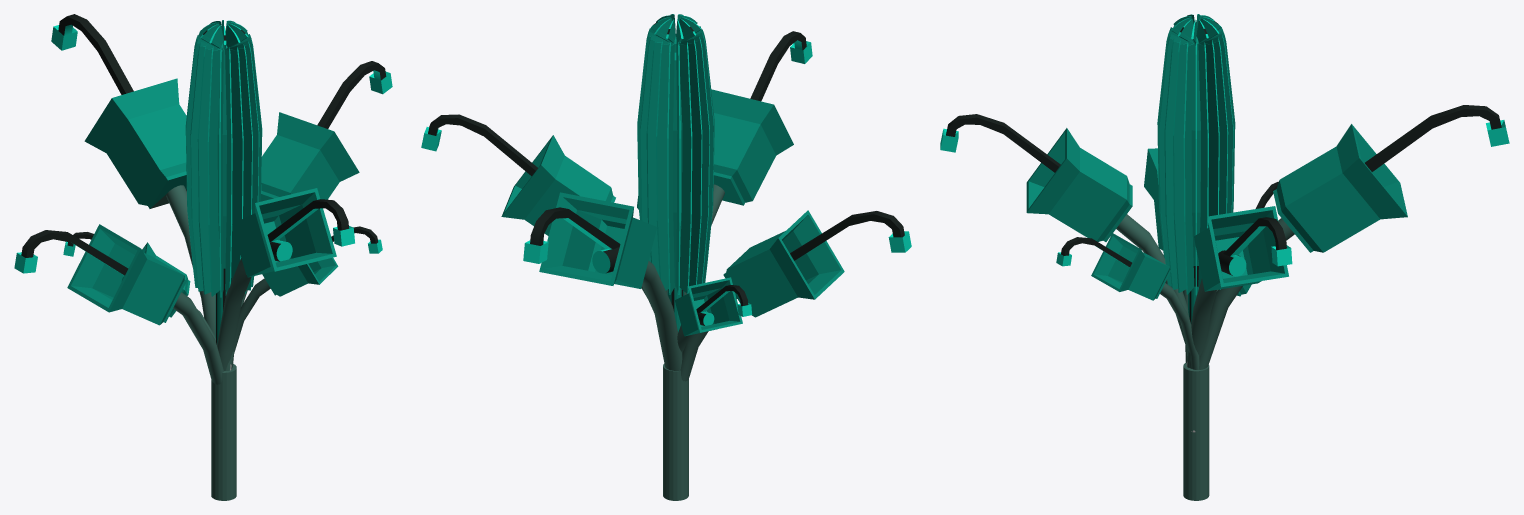
File: flower.fbx
The picture shows the model from 3 angles, left to right: view 1: azimuth 30°, elevation 25°; view 2: azimuth 150°, elevation 25°; view 3: azimuth 270°, elevation 25°; orthographic projection.
Visible parts, largest first — view 1: pCylinder4, pCube5, pTorus5, pCube7, pCube6, pCube8, pCube9; view 2: pCylinder4, pCube5, pTorus5, pCube7, pCube6, pCube9; view 3: pCylinder4, pCube5, pCube7, pCube6, pCube8, pTorus5.
Boxes of the visible parts, x1,y1,x2,y2 form: pCylinder4: (185,20,262,500); pCube5: (51,14,215,336); pTorus5: (14,224,223,384); pCube7: (217,188,354,370); pCube6: (219,61,392,429); pCube8: (232,226,382,366); pCube9: (63,232,215,340); pCylinder4: (637,14,714,500); pCube5: (523,192,682,370); pTorus5: (680,210,911,381); pCube7: (684,31,812,295); pCube6: (421,114,647,298); pCube9: (675,277,752,352); pCylinder4: (1157,14,1235,500); pCube5: (1199,105,1509,369); pCube7: (940,114,1192,368); pCube6: (1186,206,1292,367); pCube8: (1056,233,1199,369); pTorus5: (1144,148,1187,362).
Bounding box in the file's own units: 3.54 × 3.75 × 4.04.
